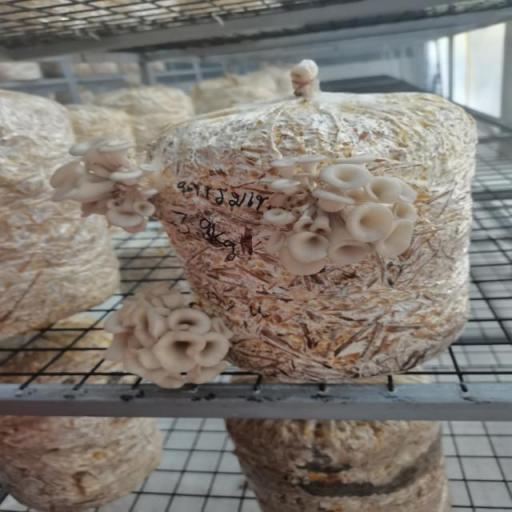White Oyster Mushroom: (259, 147, 431, 279), (107, 282, 233, 387), (48, 134, 172, 235)
